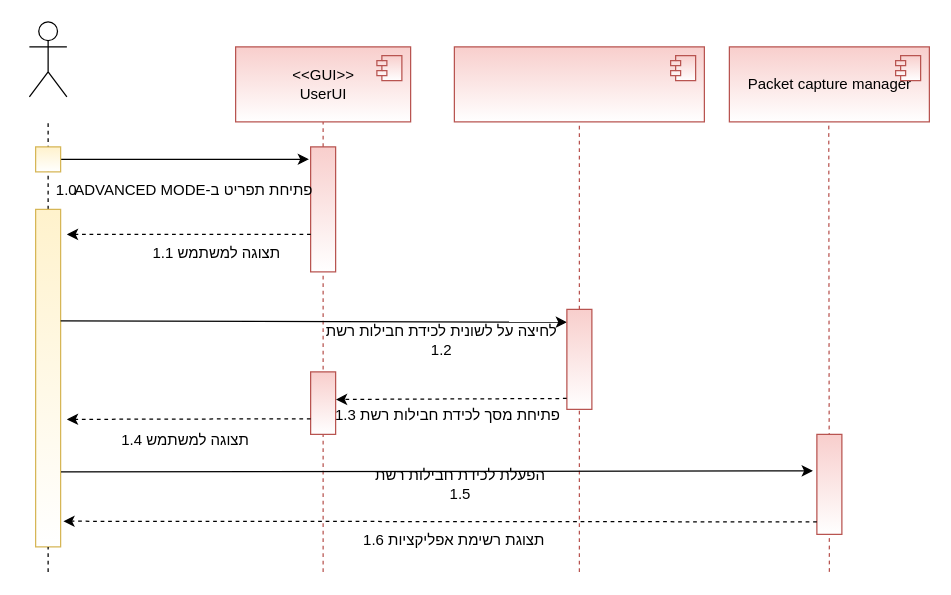
Image size: 951x595. Some labels were removed from this diagram. Here are the shapes that lost their labels. From the top down, the box of each, then its label:
(28, 21, 67, 97): משתמש
(453, 46, 704, 122): ADVANCED MODE option manager
